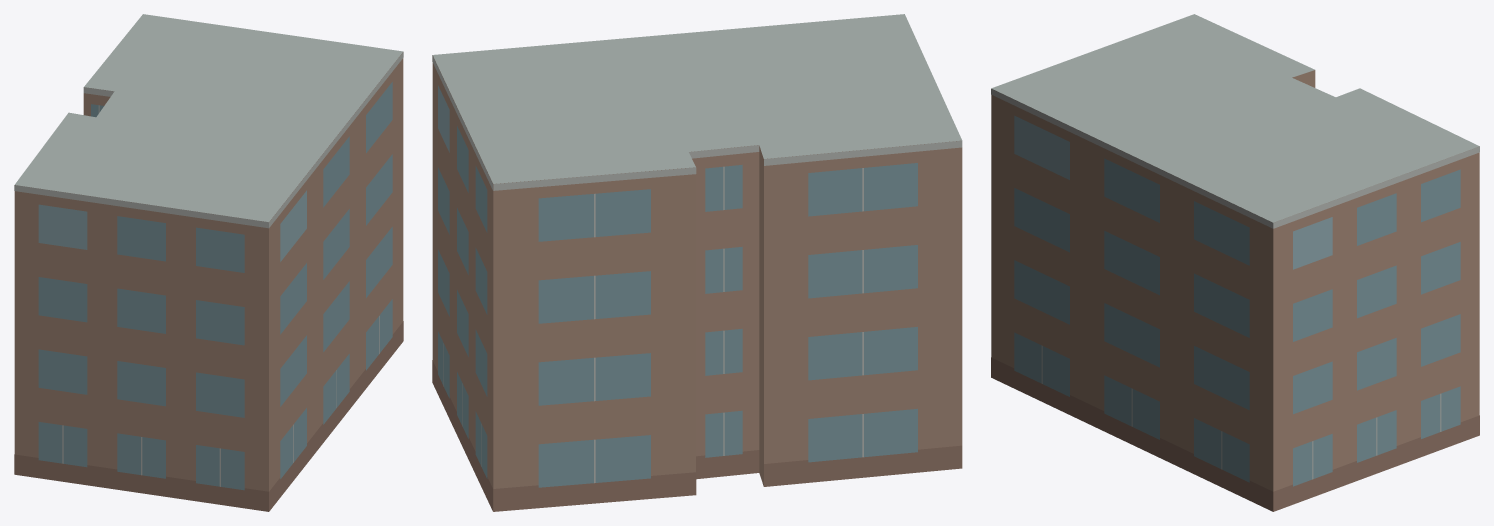
The model's file is survey-upis-32638485.glb.
The picture shows the model from 3 angles, left to right: view 1: azimuth 30°, elevation 25°; view 2: azimuth 150°, elevation 25°; view 3: azimuth 270°, elevation 25°; orthographic projection. The views are drawn at different scales.
Parts seen in each view (by area): view 1: survey-upis-32638485.tmp; view 2: survey-upis-32638485.tmp; view 3: survey-upis-32638485.tmp.
Boxes of the visible parts, left/top/right/bottom form: survey-upis-32638485.tmp: left=14, top=14, right=403, bottom=511; survey-upis-32638485.tmp: left=432, top=14, right=962, bottom=511; survey-upis-32638485.tmp: left=991, top=14, right=1479, bottom=511.
Size of the model in its own units: 17.89 by 11.55 by 17.7.
